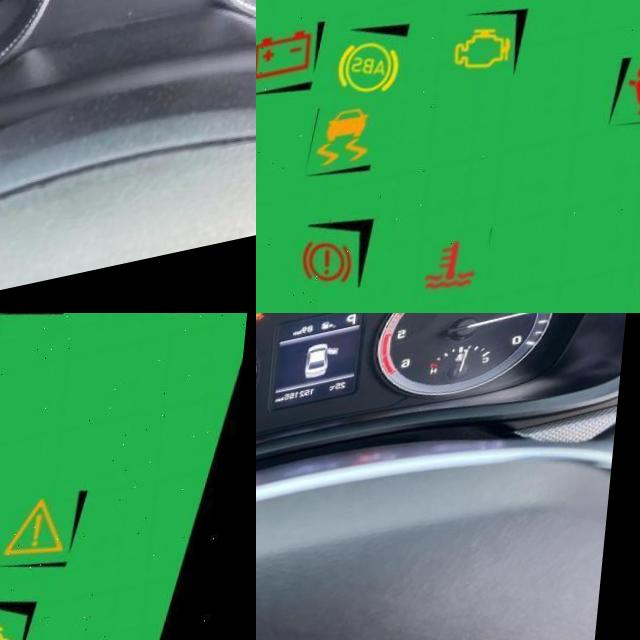Seat Belt: (256, 320, 267, 334)
